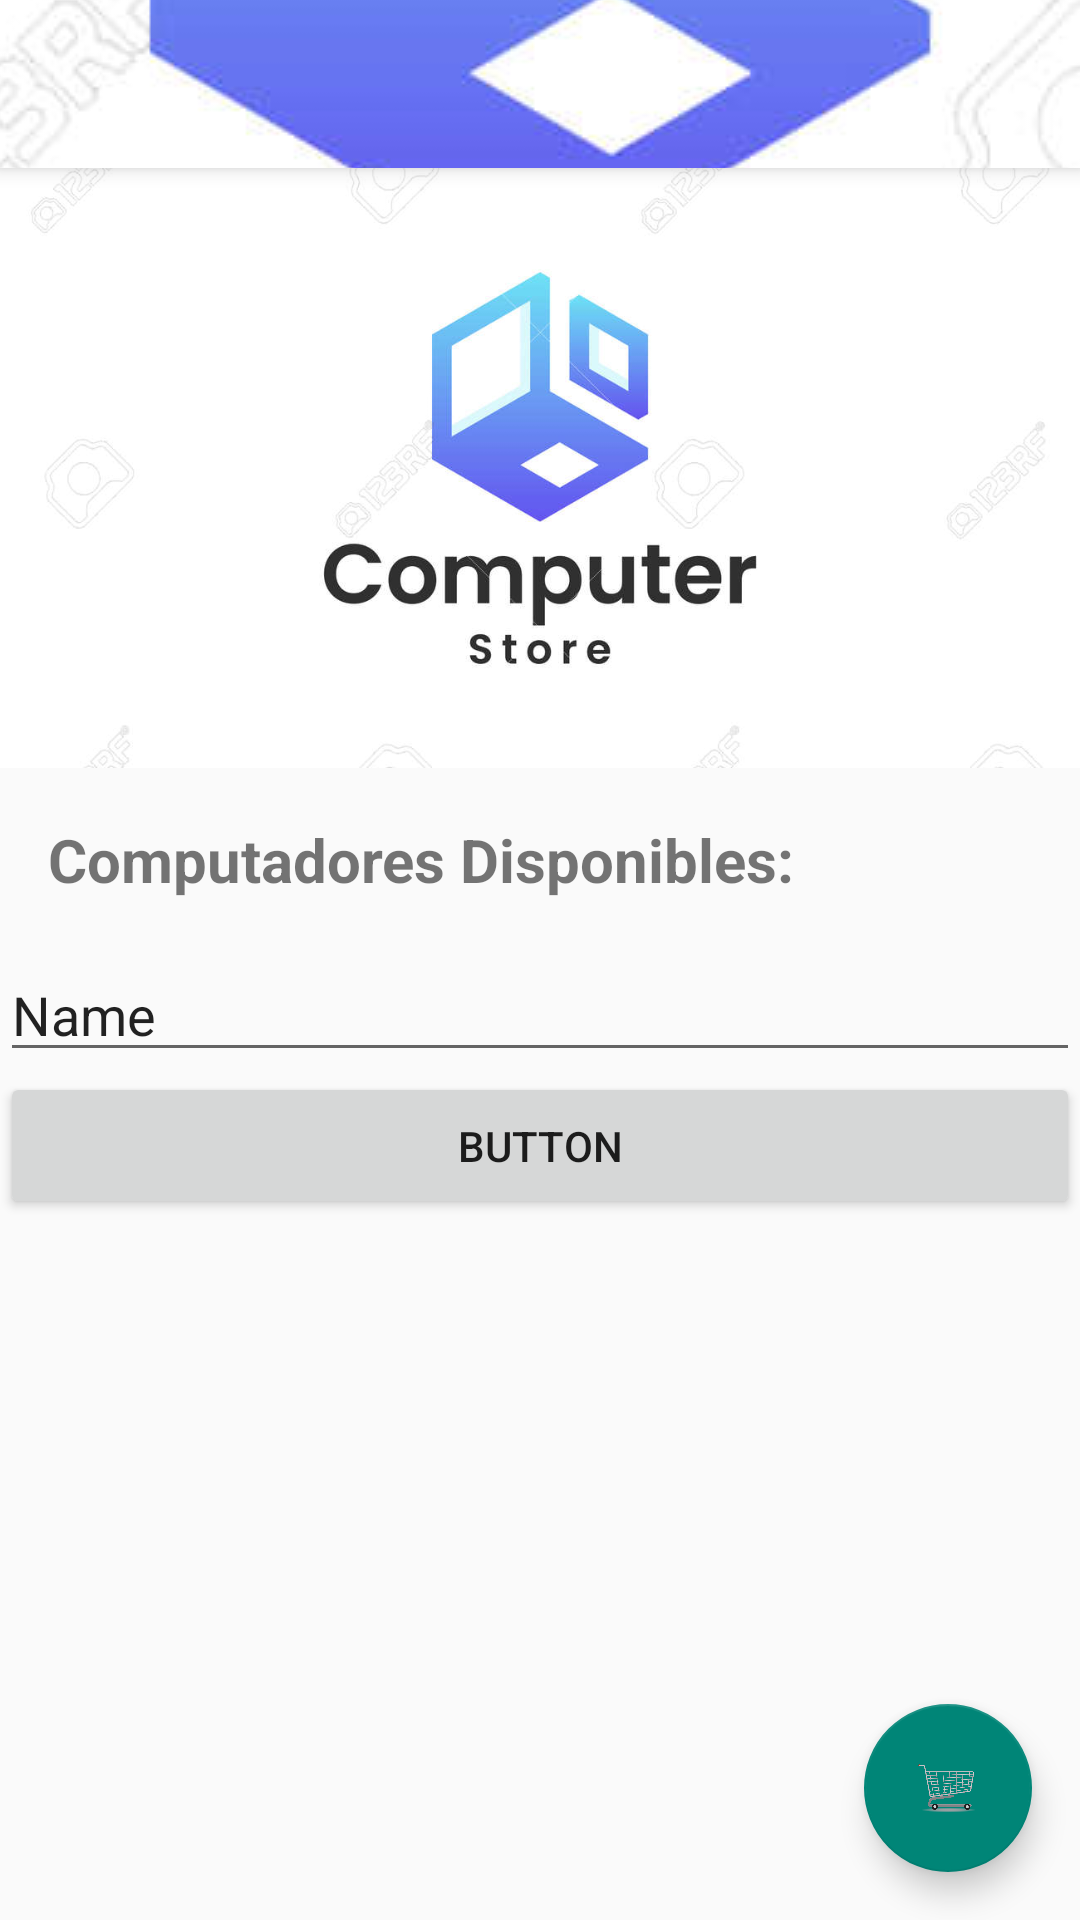

Named icons in this screenshot (1080w x 1920h) and their centers, (x,y):
Shopping Cart: (948,1788)
